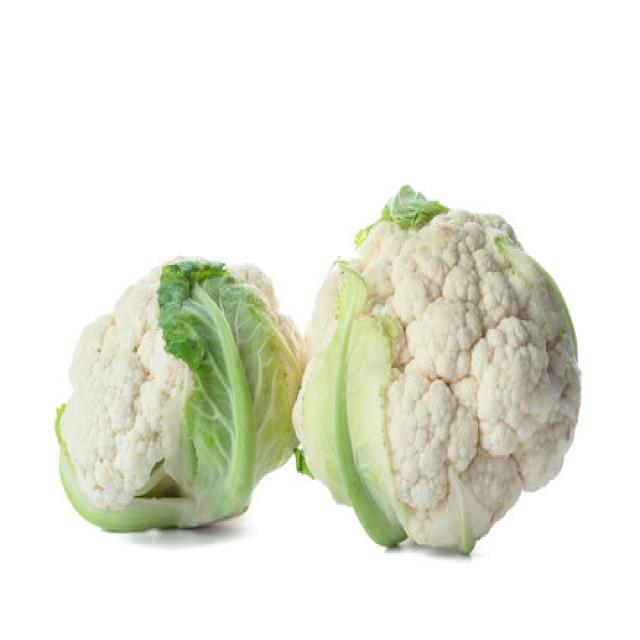Cauliflower: (293, 185, 582, 555), (53, 254, 305, 534)
